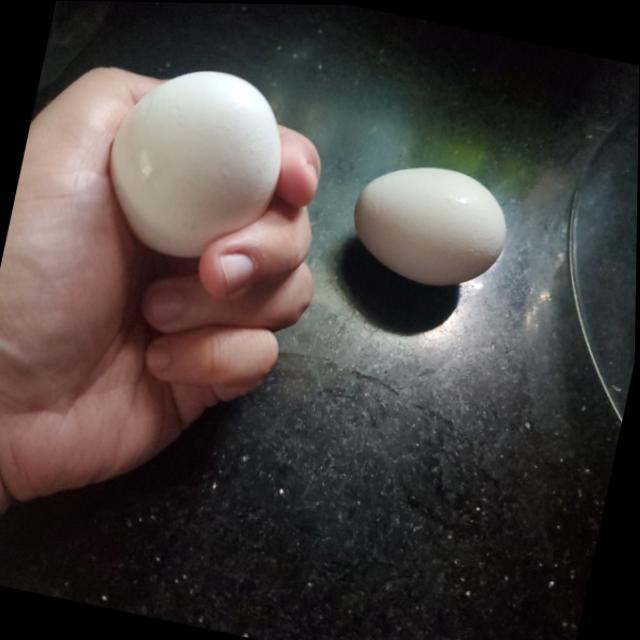egg: (94, 52, 296, 269), (345, 148, 520, 294)
